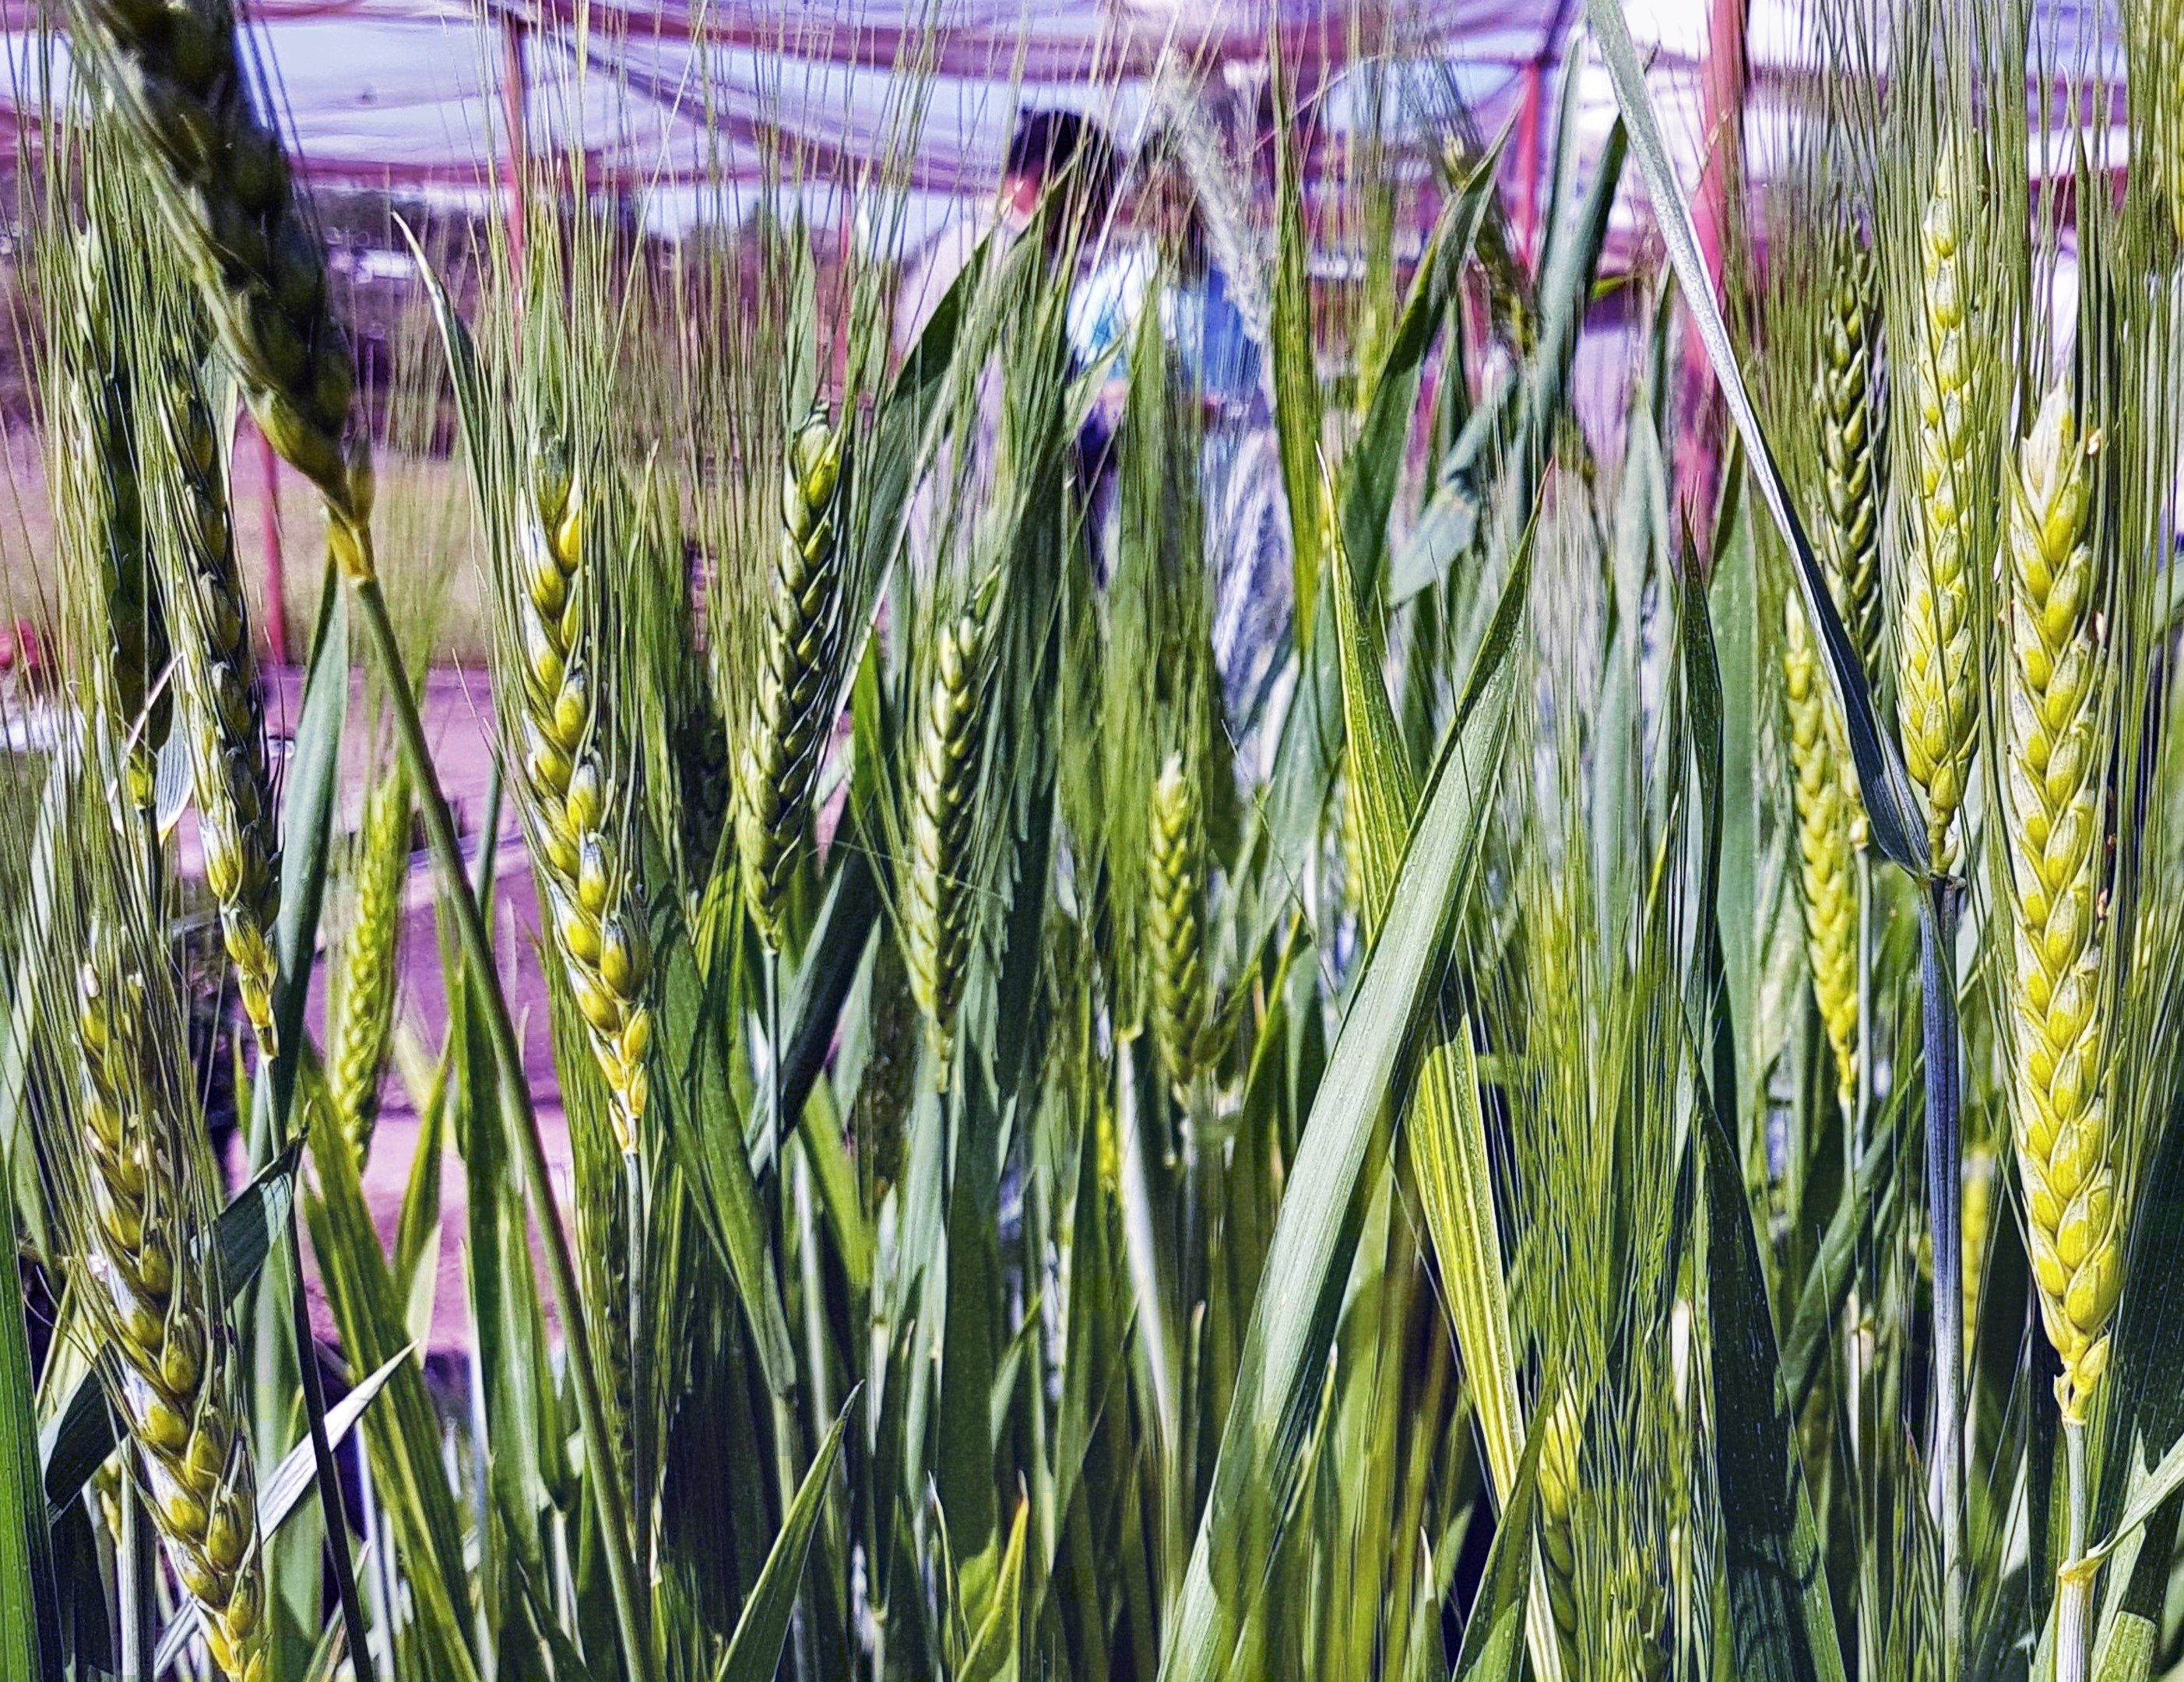Healthy Wheat: (1898, 133, 2184, 1350), (732, 387, 1057, 1004), (62, 947, 307, 1647), (481, 408, 673, 1124)
